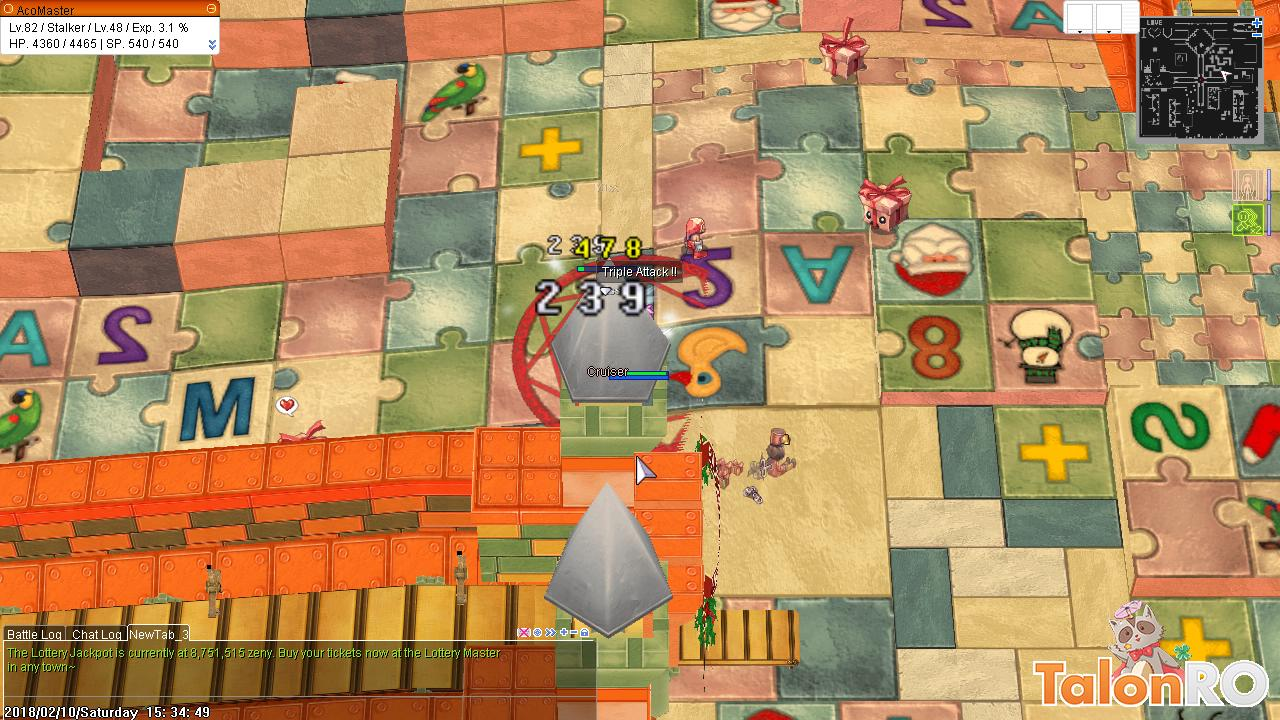loot: (744, 481, 766, 510)
myst_case: (851, 168, 913, 237), (820, 12, 869, 88)
